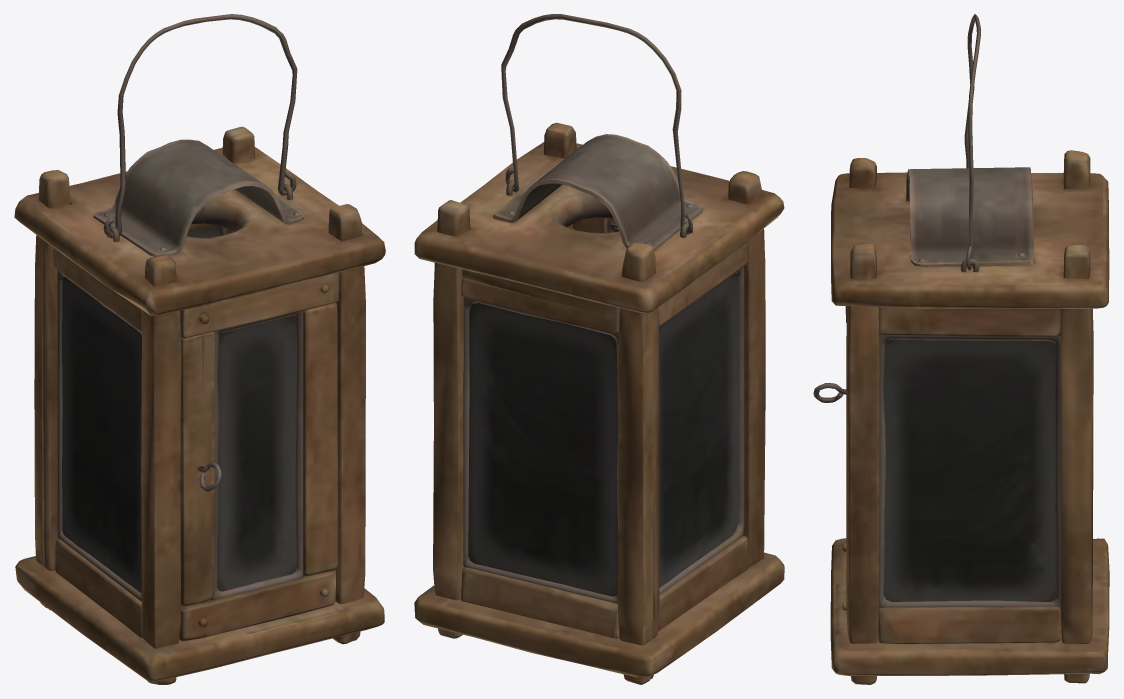
File: wooden_lantern_01.glb
3 views of the same model, side by side, from view 1: azimuth 30°, elevation 25°; view 2: azimuth 150°, elevation 25°; view 3: azimuth 270°, elevation 25° (orthographic).
Parts seen in each view (by area): view 1: wooden_lantern_01; view 2: wooden_lantern_01; view 3: wooden_lantern_01.
Part boxes in pixels (left/top/right/bottom): wooden_lantern_01: left=14, top=14, right=385, bottom=684; wooden_lantern_01: left=414, top=14, right=784, bottom=684; wooden_lantern_01: left=813, top=14, right=1109, bottom=684.
Bounding box in the file's own units: 0.221 × 0.5301 × 0.2347.
Materials: 2 (2 with a texture image).
